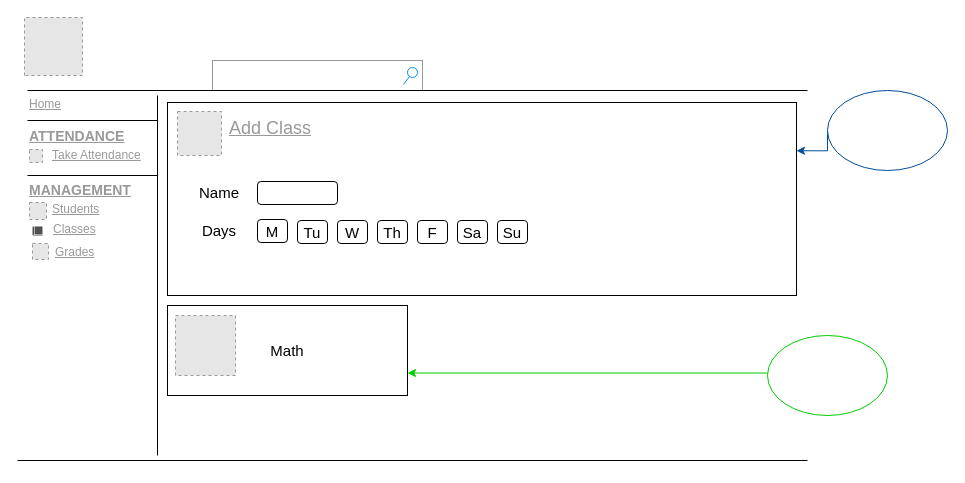
This 965x483 diagram has some shape labels left out. Grey dashed boxes stand in for pictures. Here are the shapes that lost their labels. From the top down, the centre of each, then its label:
the point at 317,75: Search
the point at 887,130: Class component
the point at 827,375: Link to existing class
